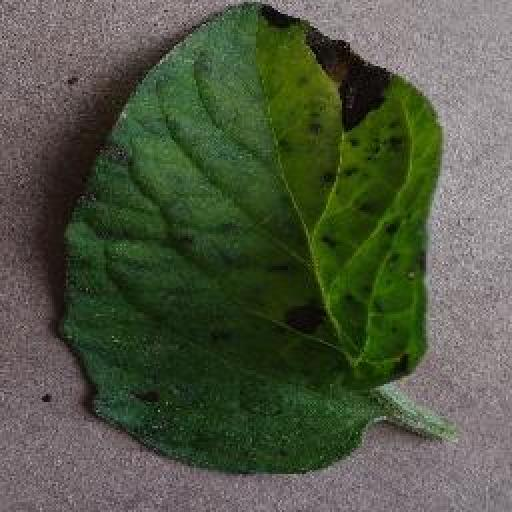Early Blight: (55, 3, 443, 477)
